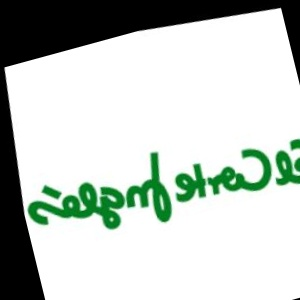corte_ingles: (286, 39, 300, 131)
